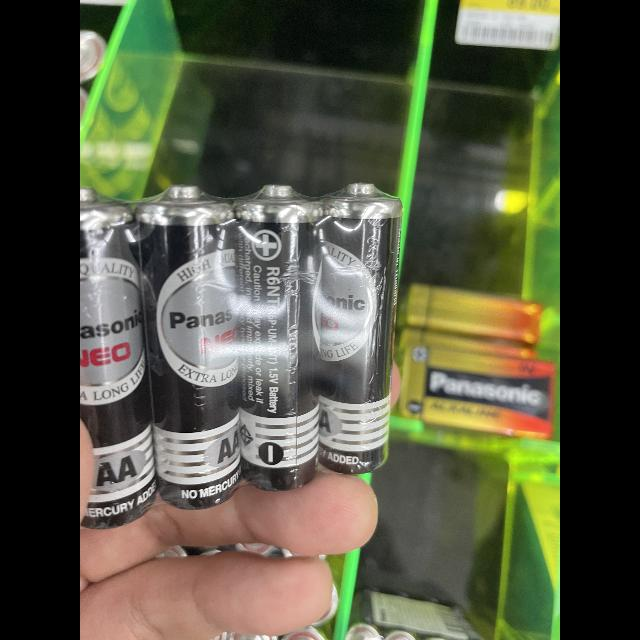battery: (142, 181, 248, 520), (318, 184, 417, 482), (237, 183, 328, 501), (80, 188, 160, 539), (398, 281, 554, 455), (206, 582, 482, 640), (80, 27, 176, 177)
